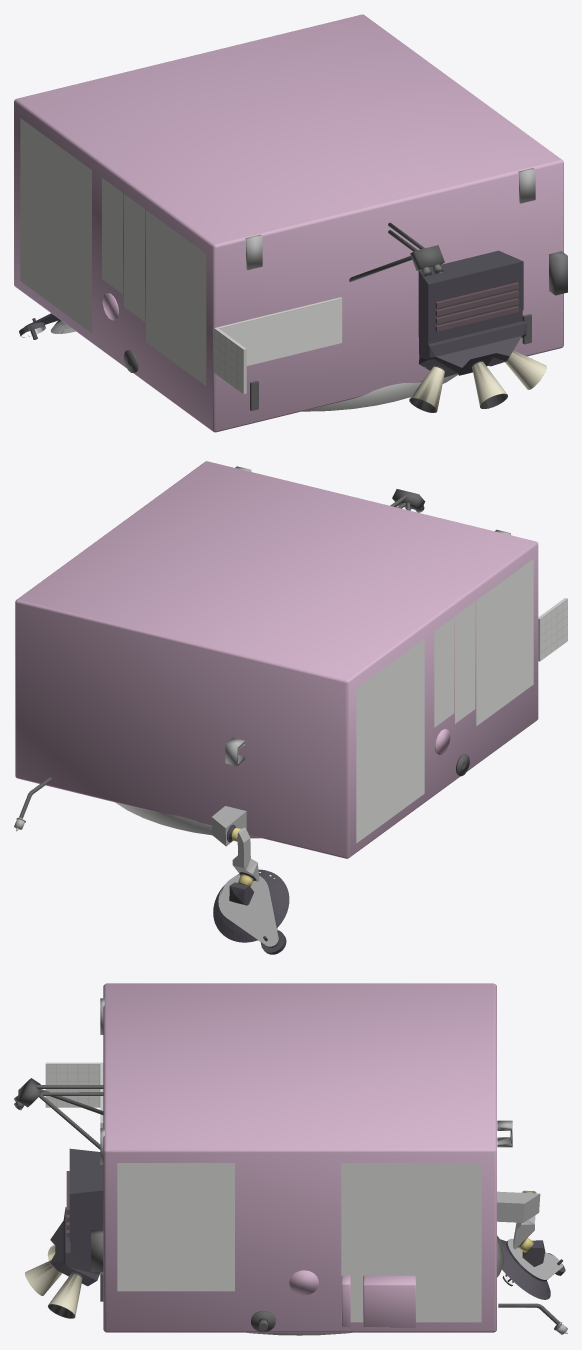
3 renders of one model, top to bottom at view 1: azimuth 30°, elevation 25°; view 2: azimuth 150°, elevation 25°; view 3: azimuth 270°, elevation 25°, orthographic. The views are drawn at different scales.
Parts seen in each view (by area): view 1: BUS; view 2: BUS; view 3: BUS.
Boxes of the visible parts, x1,y1,x2,y2 form: BUS: (14, 14, 567, 432); BUS: (14, 461, 567, 954); BUS: (14, 983, 567, 1335).
Size of the model in its own units: 2.98 by 2.1 by 3.91.
